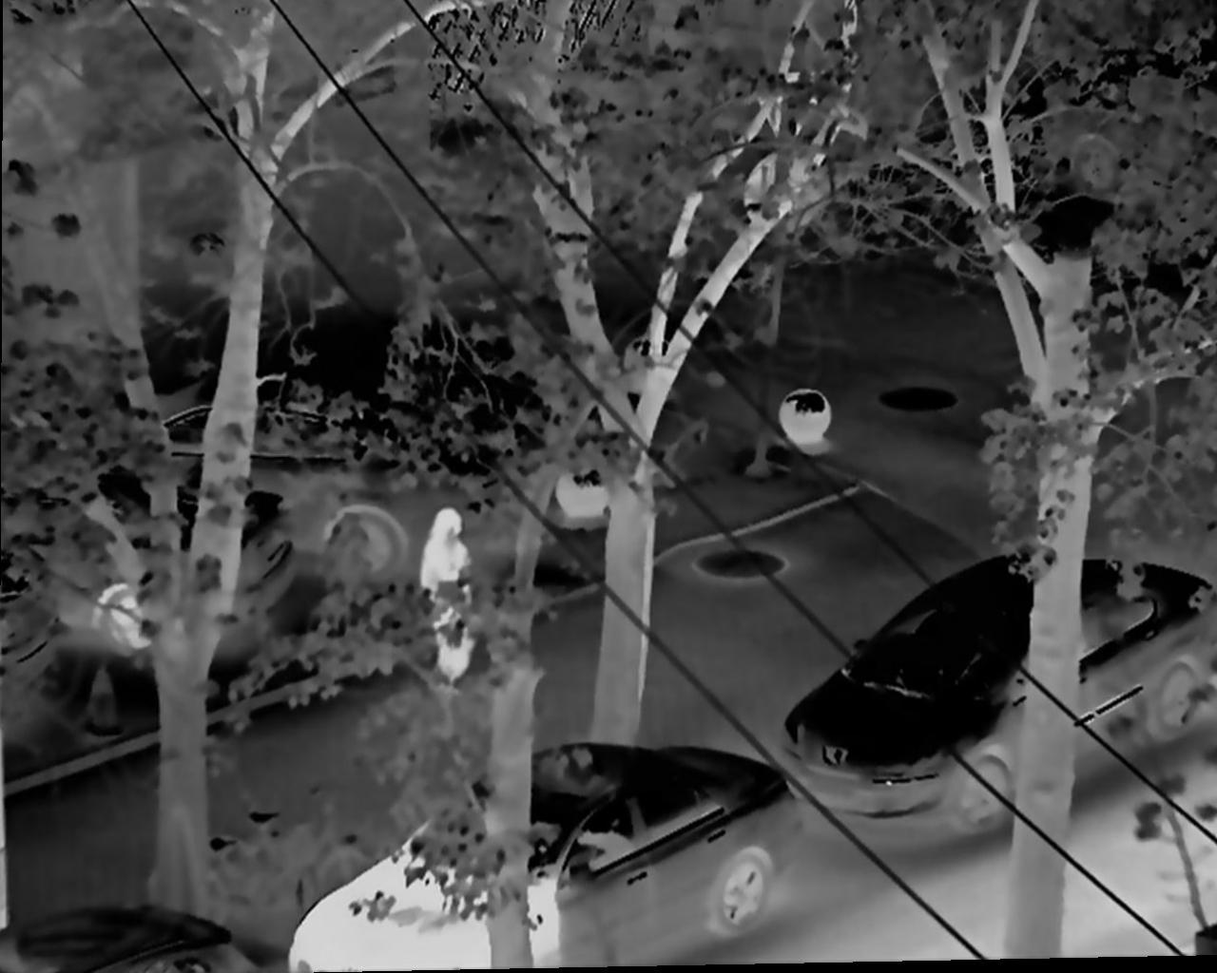person: (416, 506, 484, 705)
